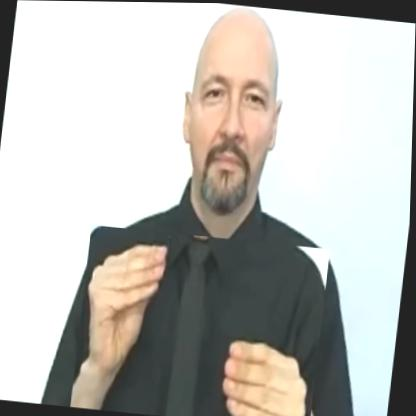Fix: (72, 224, 332, 416)
